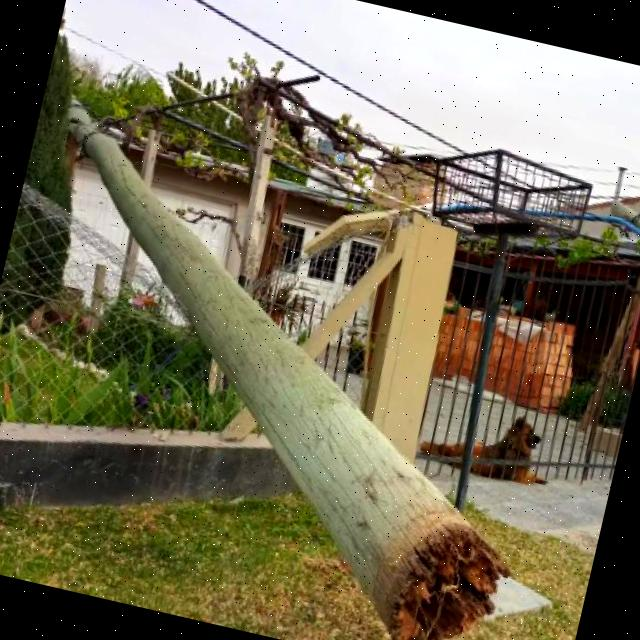Broken Pole: (62, 95, 502, 640)
